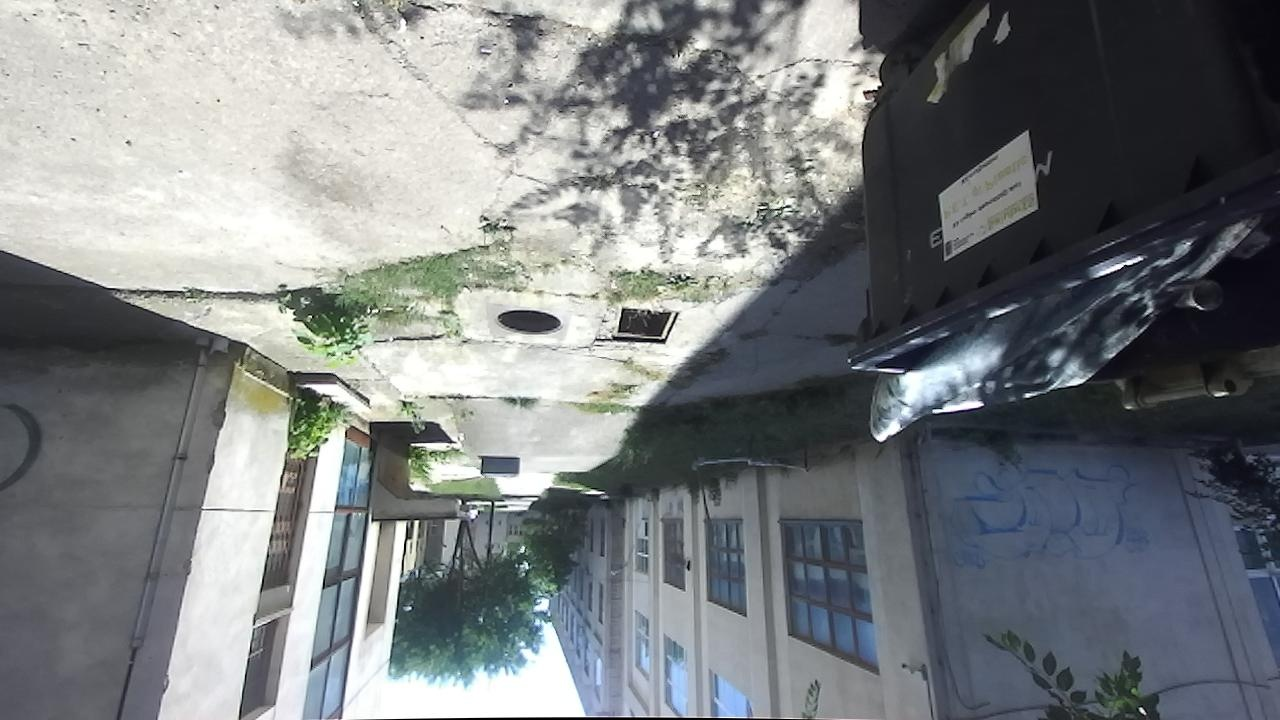drain: (605, 306, 680, 346), (494, 308, 567, 340)
